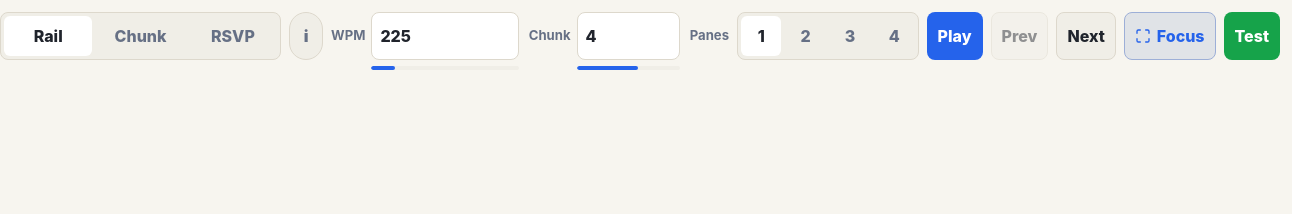
Test case: ReaderControls › explains each reader mode from the mode selector info button
The width and height of the screenshot is (1292, 214).
Expected: the element named "Reading mode" is shown, x1=0 y1=12 x2=281 y2=60
Expected: the text "Recommended default: guided lines and phrase highlights" is not shown
Click the button named "Explain reader modes": click(306, 36) x1=289 y1=12 x2=323 y2=60
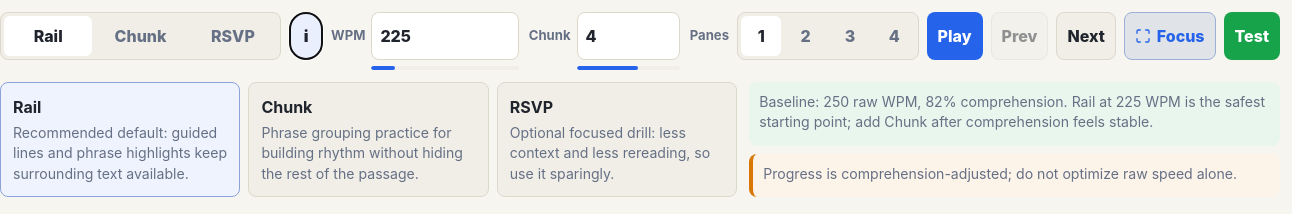
Expected: the text "Recommended default: guided lines and phrase highlights" is shown, x1=13 y1=124 x2=227 y2=182
Expected: the text "Phrase grouping practice" is shown, x1=261 y1=124 x2=463 y2=182
Expected: the text "Optional focused drill: less context and less rereading" is shown, x1=510 y1=124 x2=710 y2=182
